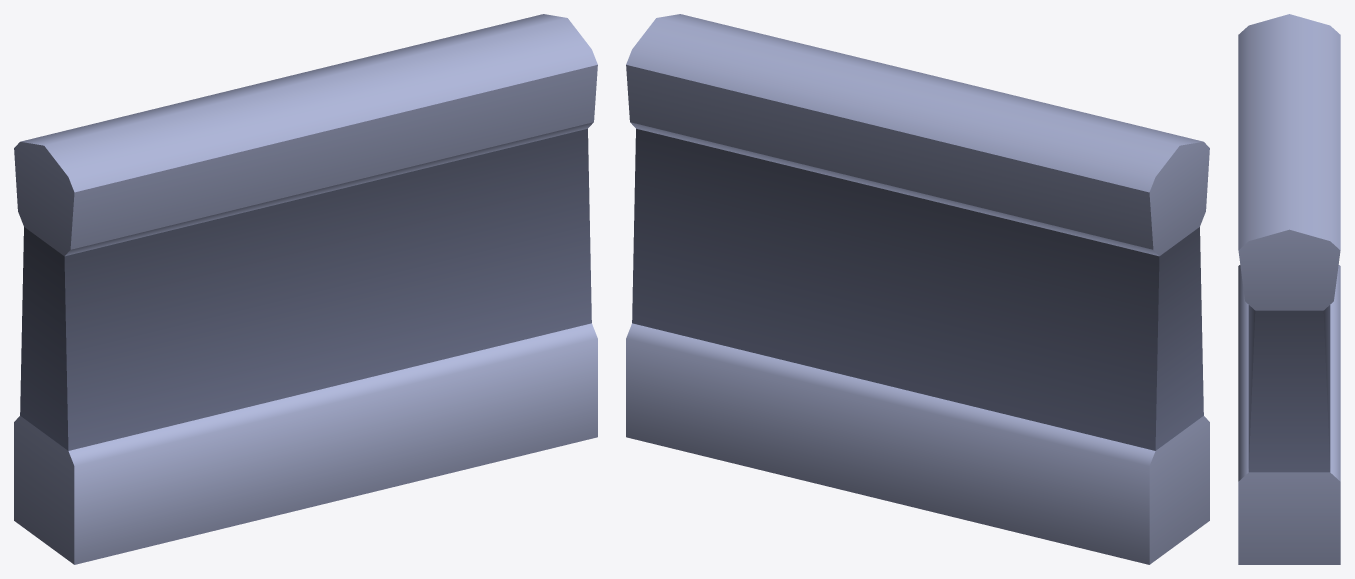
File: stone-wall.glb
3 renders of one model, left to right at view 1: azimuth 30°, elevation 25°; view 2: azimuth 150°, elevation 25°; view 3: azimuth 270°, elevation 25°, orthographic. The views are drawn at different scales.
Parts seen in each view (by area): view 1: stone-wall; view 2: stone-wall; view 3: stone-wall.
Boxes of the visible parts, x1=… form: stone-wall: x1=14, y1=14, x2=597, y2=564; stone-wall: x1=626, y1=14, x2=1209, y2=564; stone-wall: x1=1238, y1=14, x2=1340, y2=564.
Size of the model in its own units: 1 by 0.725 by 0.2.
Materials: 1 (1 with a texture image).
